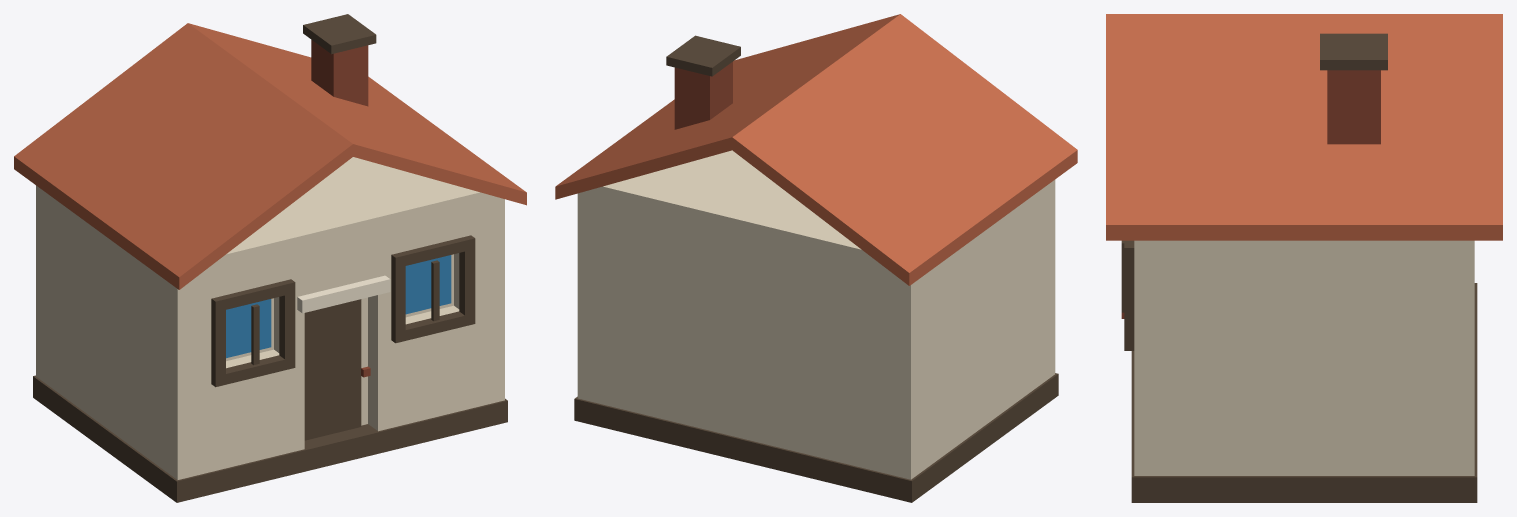
File: cottage.glb
3 renders of one model, left to right at view 1: azimuth 30°, elevation 25°; view 2: azimuth 150°, elevation 25°; view 3: azimuth 270°, elevation 25°, orthographic. The views are drawn at different scales.
Visible parts, largest first — view 1: P25D_CottageWallMass, P25D_CottageGableRoof, P25D_CottageBaseBand, P25D_DoorPanel, P25D_Chimney, P25D_WindowGlass+0.88, P25D_WindowGlass-0.88, P25D_ChimneyCap, P25D_DoorHeader, P25D_WindowTop+0.88, P25D_WindowBottom+0.88, P25D_WindowTop-0.88 (+5 smaller); view 2: P25D_CottageWallMass, P25D_CottageGableRoof, P25D_CottageBaseBand, P25D_Chimney, P25D_ChimneyCap; view 3: P25D_CottageGableRoof, P25D_CottageWallMass, P25D_CottageBaseBand, P25D_Chimney, P25D_ChimneyCap, P25D_WindowRight+0.88.
Part boxes in pixels (bbox=[...]): P25D_CottageWallMass: bbox=[36, 157, 504, 479]; P25D_CottageGableRoof: bbox=[14, 23, 526, 289]; P25D_CottageBaseBand: bbox=[33, 375, 507, 502]; P25D_DoorPanel: bbox=[304, 299, 361, 440]; P25D_Chimney: bbox=[311, 40, 368, 106]; P25D_WindowGlass+0.88: bbox=[405, 255, 451, 314]; P25D_WindowGlass-0.88: bbox=[226, 299, 271, 358]; P25D_ChimneyCap: bbox=[303, 14, 376, 54]; P25D_DoorHeader: bbox=[297, 275, 390, 313]; P25D_WindowTop+0.88: bbox=[391, 235, 475, 268]; P25D_WindowBottom+0.88: bbox=[391, 311, 475, 342]; P25D_WindowTop-0.88: bbox=[212, 279, 295, 312]; P25D_CottageWallMass: bbox=[577, 150, 1055, 479]; P25D_CottageGableRoof: bbox=[555, 14, 1077, 285]; P25D_CottageBaseBand: bbox=[574, 373, 1058, 502]; P25D_Chimney: bbox=[674, 62, 732, 129]; P25D_ChimneyCap: bbox=[666, 35, 740, 76]; P25D_CottageGableRoof: bbox=[1106, 14, 1502, 240]; P25D_CottageWallMass: bbox=[1134, 240, 1474, 475]; P25D_CottageBaseBand: bbox=[1131, 283, 1477, 502]; P25D_Chimney: bbox=[1327, 70, 1380, 144]; P25D_ChimneyCap: bbox=[1320, 33, 1387, 70]; P25D_WindowRight+0.88: bbox=[1124, 244, 1134, 350].
Size of the model in its own units: 3.4 by 3.2 by 2.8.
